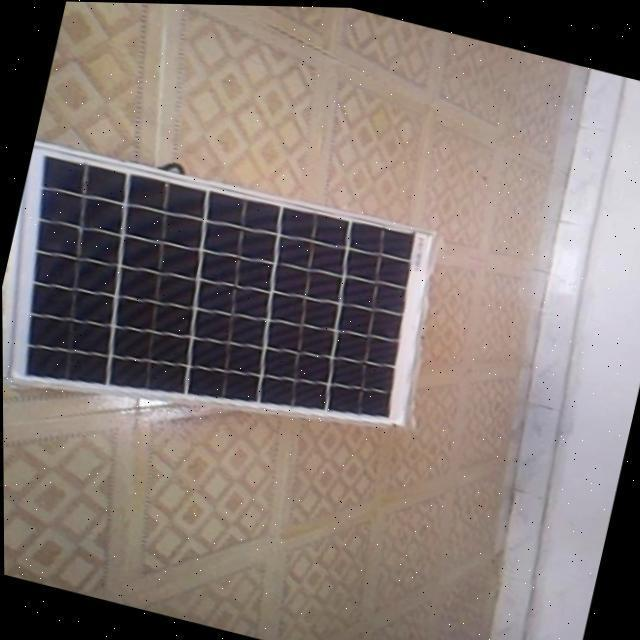Normal Solar Panel: (1, 129, 450, 474)
